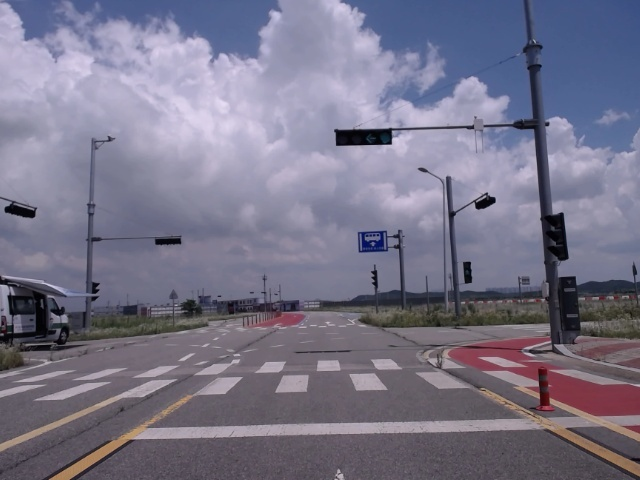all_green_4: (335, 128, 395, 145)
